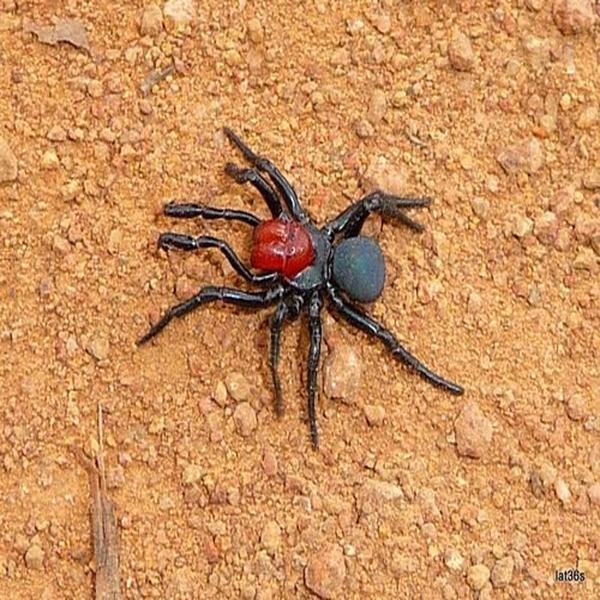Red Headed Mouse Spider: (141, 128, 464, 432)
